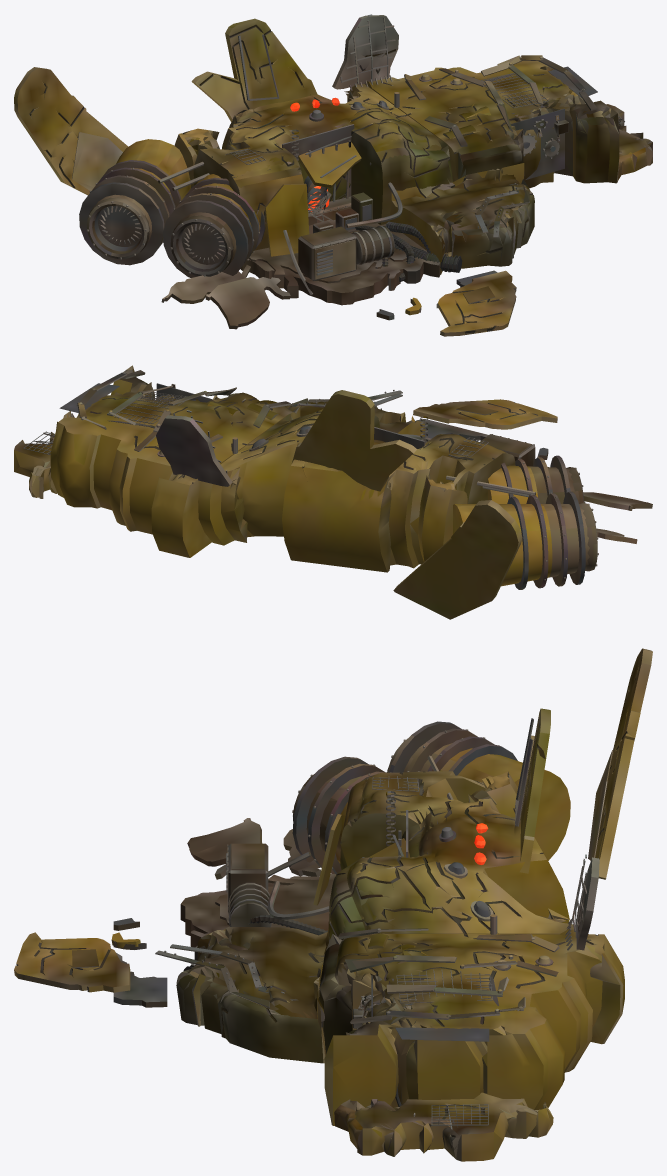
The model's file is crash-site-spaceship.glb.
3 renders of one model, top to bottom at view 1: azimuth 30°, elevation 25°; view 2: azimuth 150°, elevation 25°; view 3: azimuth 270°, elevation 25°, orthographic. The views are drawn at different scales.
Visible parts, largest first — view 1: body; view 2: body; view 3: body.
Part boxes in pixels (bbox=[...]): body: bbox=[14, 14, 652, 336]; body: bbox=[14, 365, 652, 619]; body: bbox=[14, 648, 652, 1161].
Bounding box in the file's own units: 16.38 × 4.97 × 12.77.
2 materials, 2 textured.
